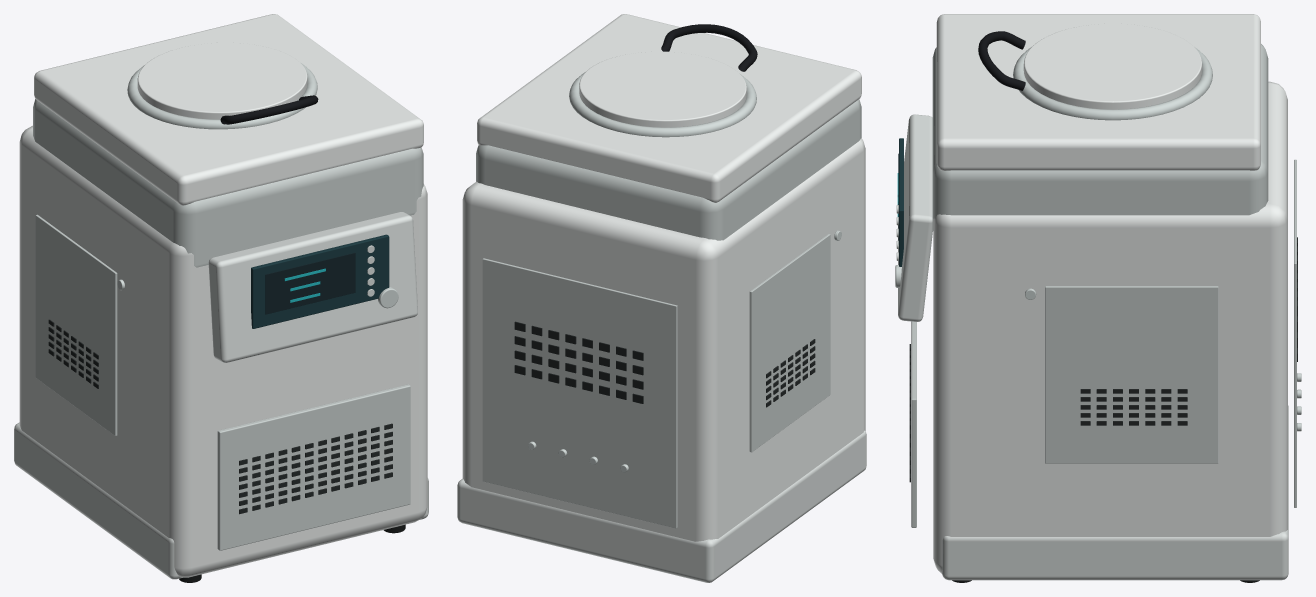
The model's file is floor-centrifuge.glb.
The picture shows the model from 3 angles, left to right: view 1: azimuth 30°, elevation 25°; view 2: azimuth 150°, elevation 25°; view 3: azimuth 270°, elevation 25°; orthographic projection. The views are drawn at different scales.
Parts seen in each view (by area): view 1: Runtime batch - Cool white instrument polymer, Runtime batch - Light instrument gray powder coat, Runtime batch - Light bead-blasted aluminum, Runtime batch - Casework seam shadow, Runtime batch - Smoked control display, Runtime batch - Smoked instrument display glass, Runtime batch - Brushed analytical silver, Runtime batch - Matte black coated handle; view 2: Runtime batch - Cool white instrument polymer, Runtime batch - Light instrument gray powder coat, Runtime batch - Light bead-blasted aluminum, Runtime batch - Casework seam shadow, Runtime batch - Brushed analytical silver, Runtime batch - Matte black coated handle; view 3: Runtime batch - Cool white instrument polymer, Runtime batch - Light instrument gray powder coat, Runtime batch - Light bead-blasted aluminum, Runtime batch - Brushed analytical silver, Runtime batch - Casework seam shadow, Runtime batch - Matte black coated handle, Runtime batch - Smoked control display.
Boxes of the visible parts, x1,y1,x2,y2 form: Runtime batch - Cool white instrument polymer: [19, 14, 427, 577]; Runtime batch - Light instrument gray powder coat: [33, 99, 423, 550]; Runtime batch - Light bead-blasted aluminum: [14, 212, 428, 579]; Runtime batch - Casework seam shadow: [48, 319, 392, 514]; Runtime batch - Smoked control display: [251, 234, 389, 328]; Runtime batch - Smoked instrument display glass: [265, 252, 355, 314]; Runtime batch - Brushed analytical silver: [117, 63, 398, 308]; Runtime batch - Matte black coated handle: [220, 95, 318, 124]; Runtime batch - Cool white instrument polymer: [462, 14, 865, 541]; Runtime batch - Light instrument gray powder coat: [476, 99, 861, 528]; Runtime batch - Light bead-blasted aluminum: [457, 430, 866, 582]; Runtime batch - Casework seam shadow: [514, 321, 815, 407]; Runtime batch - Brushed analytical silver: [528, 72, 841, 472]; Runtime batch - Matte black coated handle: [661, 24, 757, 71]; Runtime batch - Cool white instrument polymer: [933, 14, 1287, 573]; Runtime batch - Light instrument gray powder coat: [911, 44, 1296, 527]; Runtime batch - Light bead-blasted aluminum: [896, 114, 1288, 580]; Runtime batch - Brushed analytical silver: [895, 47, 1301, 431]; Runtime batch - Casework seam shadow: [909, 237, 1297, 482]; Runtime batch - Matte black coated handle: [978, 31, 1025, 90]; Runtime batch - Smoked control display: [899, 138, 903, 266].
Size of the model in its own units: 0.7 by 1.05 by 0.805.
